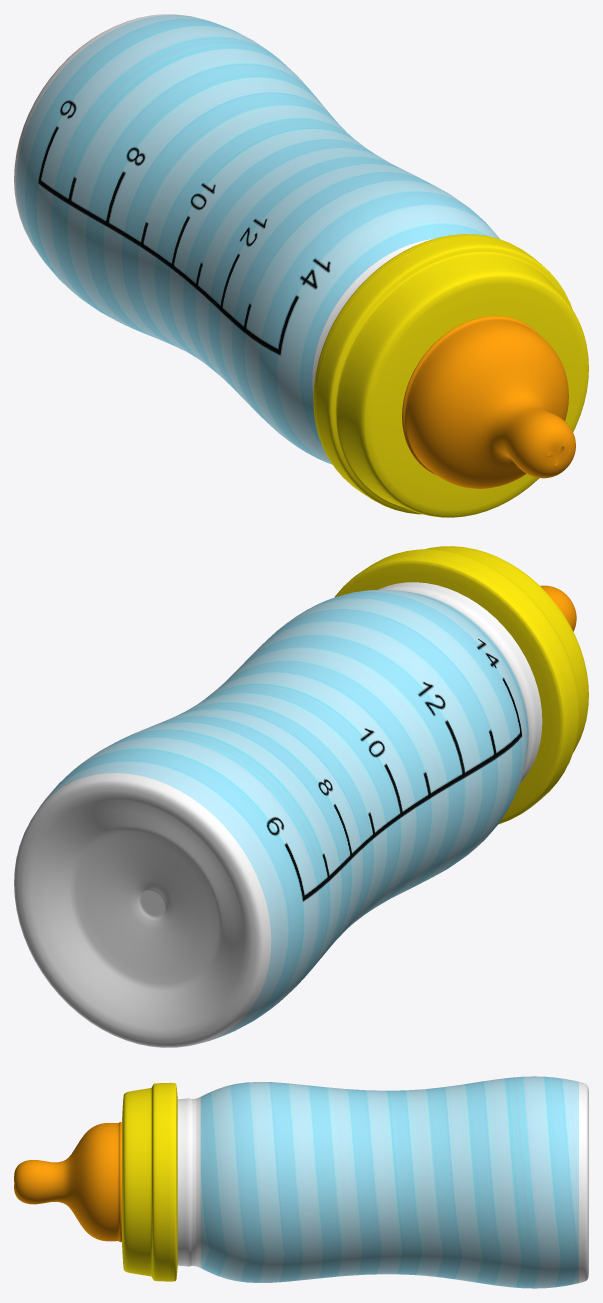
Rendered from 10904_babybottle_v5_L3.obj.
The picture shows the model from 3 angles, top to bottom: view 1: azimuth 30°, elevation 25°; view 2: azimuth 150°, elevation 25°; view 3: azimuth 270°, elevation 25°; orthographic projection. The views are drawn at different scales.
Visible parts, largest first — view 1: bottle; view 2: bottle; view 3: bottle.
Boxes of the visible parts, bbox=[...] form: bottle: bbox=[14, 14, 588, 517]; bottle: bbox=[14, 546, 588, 1047]; bottle: bbox=[14, 1076, 588, 1288].
Size of the model in its own units: 59.96 by 59.96 by 162.
Materials: 1 (1 with a texture image).
